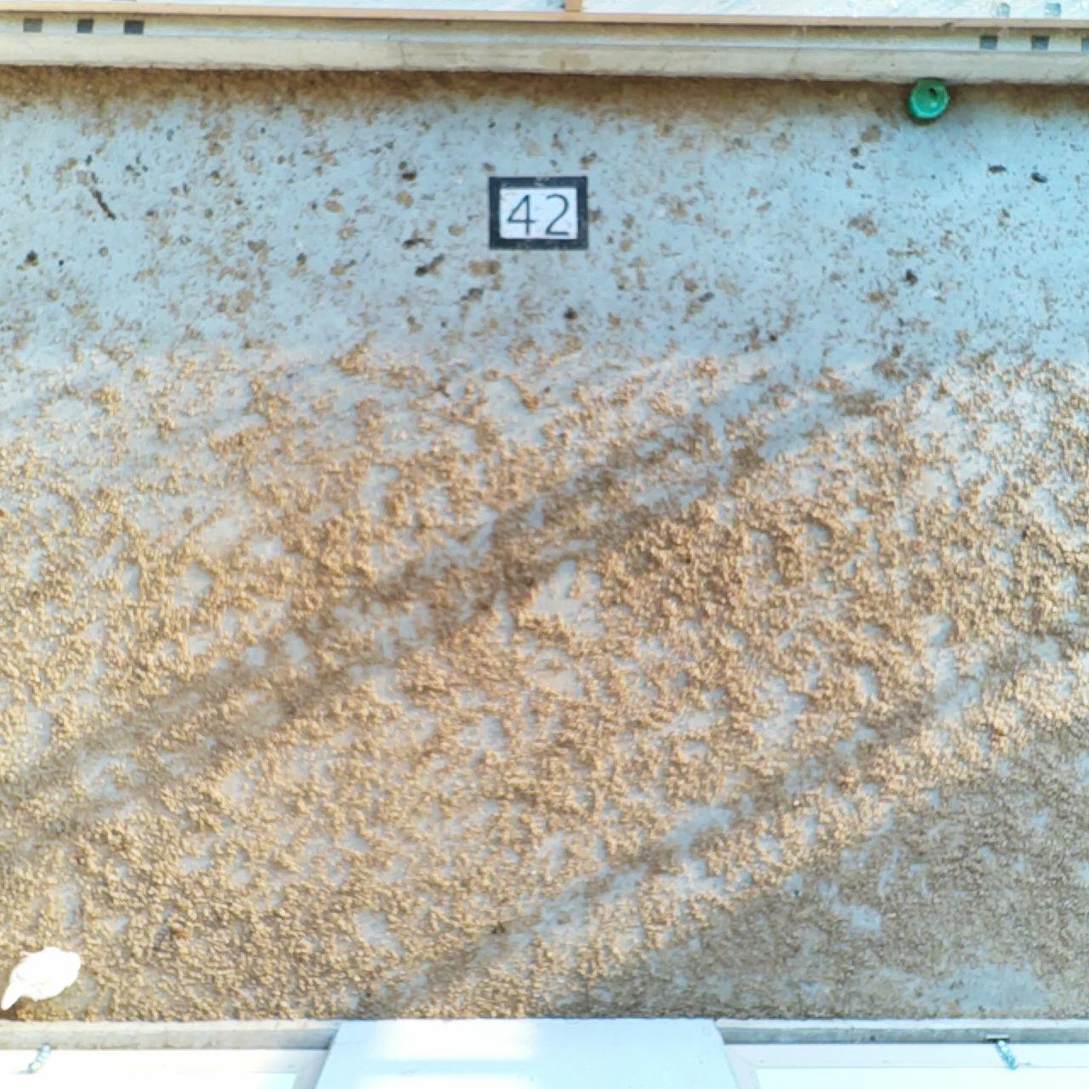chicken: (2, 946, 83, 1008)
